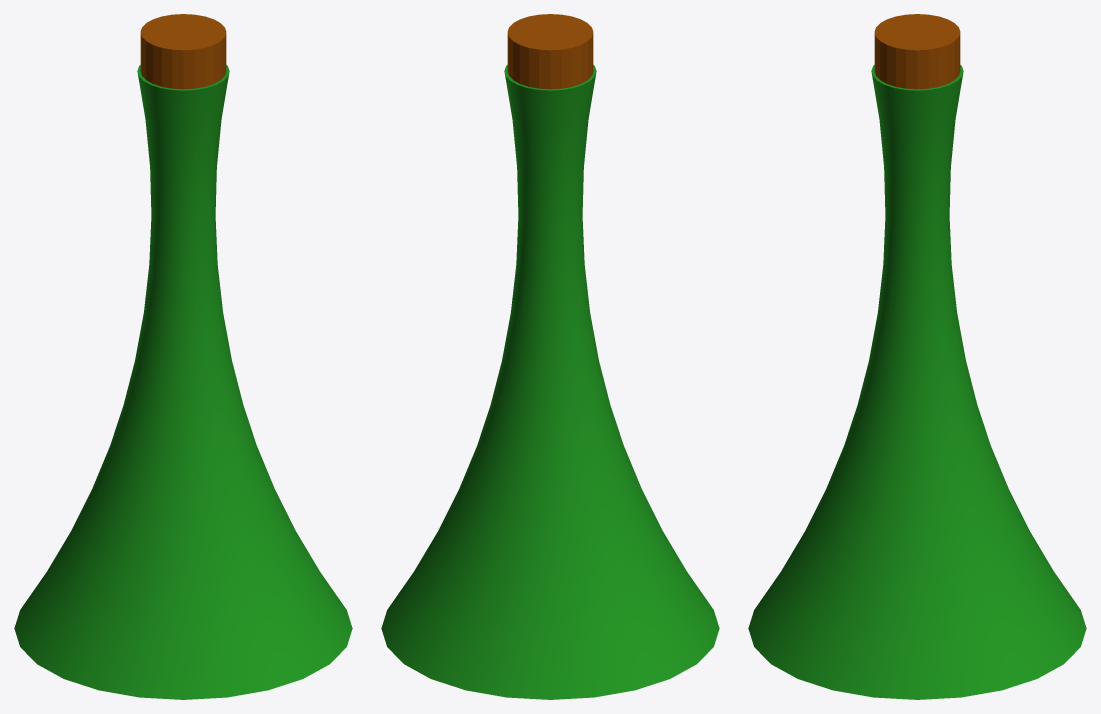
Rendered from potion.fbx.
3 renders of one model, left to right at view 1: azimuth 30°, elevation 25°; view 2: azimuth 150°, elevation 25°; view 3: azimuth 270°, elevation 25°, orthographic.
Parts seen in each view (by area): view 1: Potion1; view 2: Potion1; view 3: Potion1.
Part boxes in pixels (left/top/right/bottom): Potion1: left=14, top=14, right=352, bottom=699; Potion1: left=381, top=14, right=719, bottom=699; Potion1: left=748, top=14, right=1086, bottom=699.
Size of the model in its own units: 1.1 by 2.14 by 1.1.
